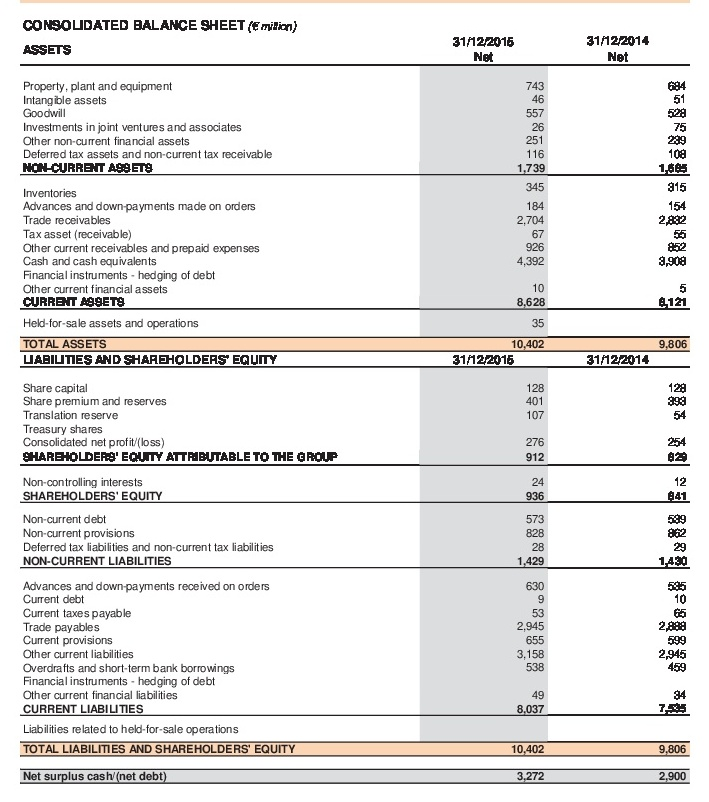table: (0, 0, 709, 802)
